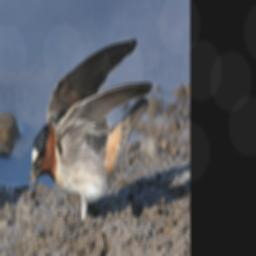Swallow: (30, 37, 152, 242)
